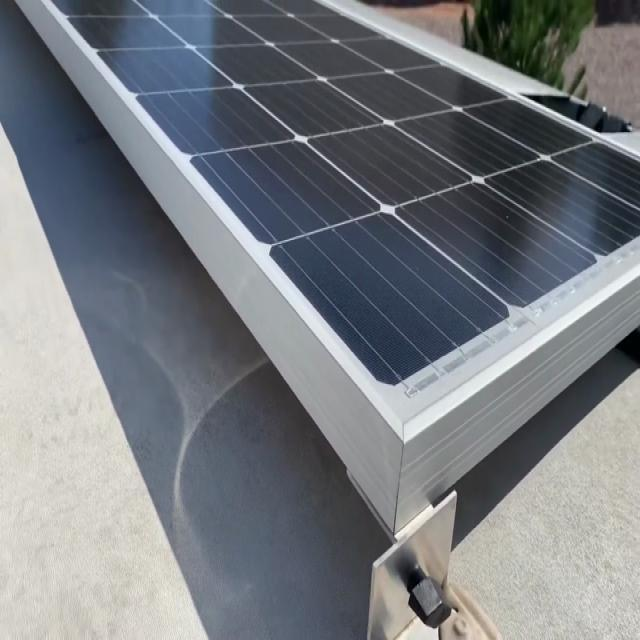Normal Solar Panel: (37, 0, 640, 440)
